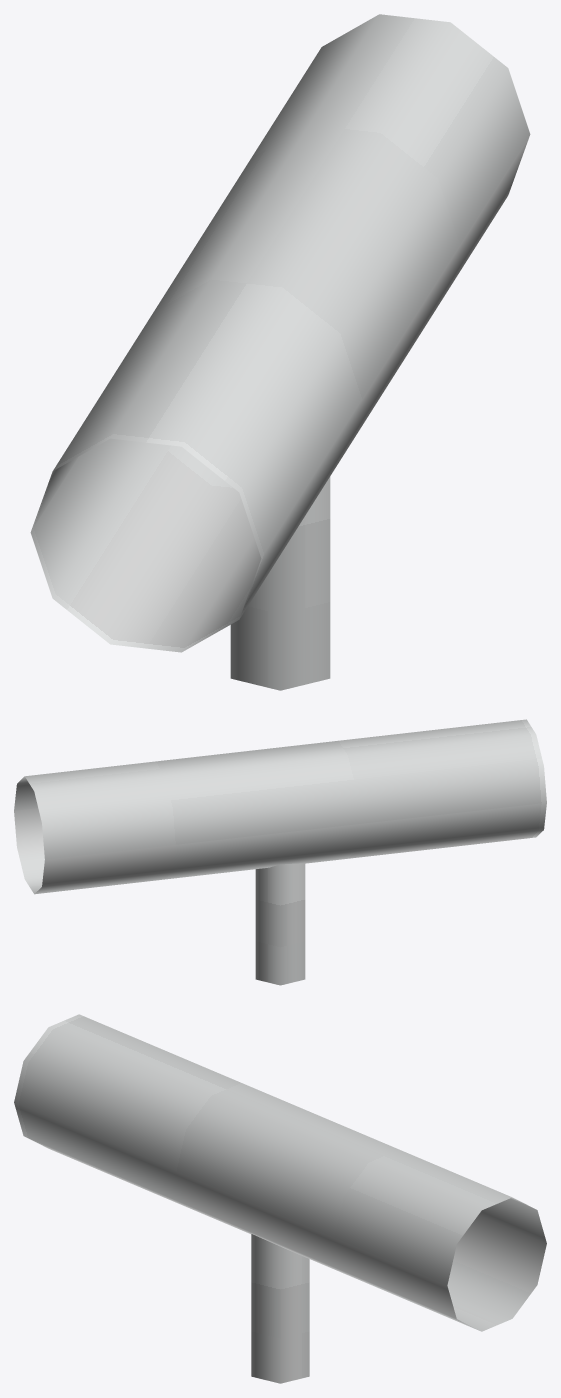
Rendered from trusssignalarm_diagonal5_c3.obj.
The picture shows the model from 3 angles, top to bottom: view 1: azimuth 30°, elevation 25°; view 2: azimuth 150°, elevation 25°; view 3: azimuth 270°, elevation 25°; orthographic projection. The views are drawn at different scales.
Visible parts, largest first — view 1: trusssignalarm_diagonal5_c3; view 2: trusssignalarm_diagonal5_c3; view 3: trusssignalarm_diagonal5_c3.
Part boxes in pixels (box(x1,y1,x2,y2)): trusssignalarm_diagonal5_c3: box(30, 14, 530, 690); trusssignalarm_diagonal5_c3: box(14, 719, 546, 985); trusssignalarm_diagonal5_c3: box(14, 1014, 546, 1383).
Size of the model in its own units: 1.23 by 0.6545 by 1.23.
